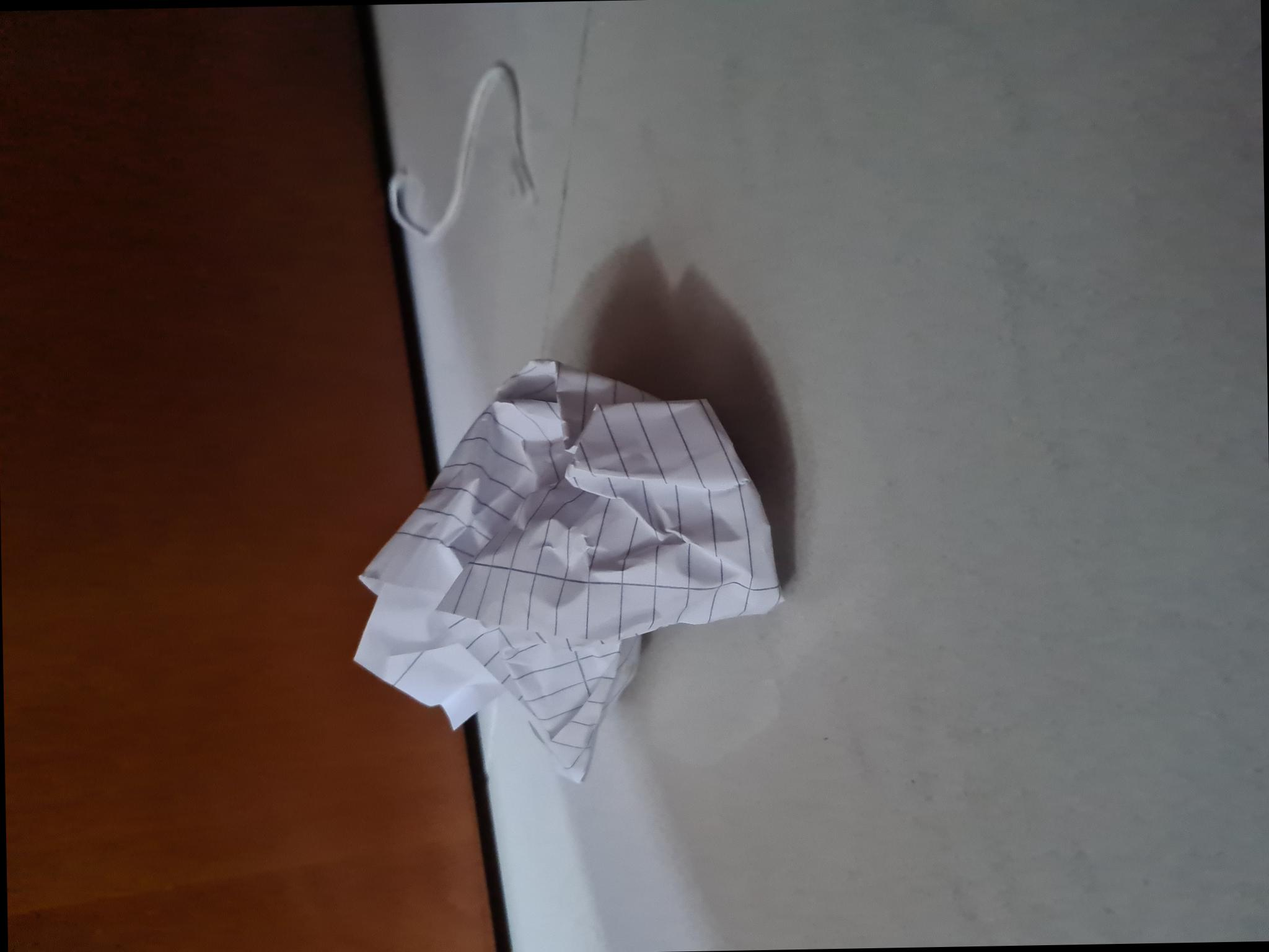Kertas: (175, 358, 594, 783)
